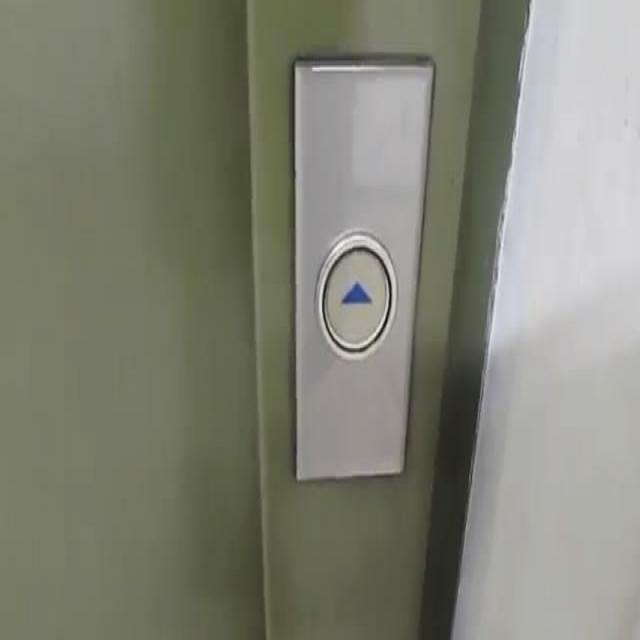up: (312, 227, 399, 360)
